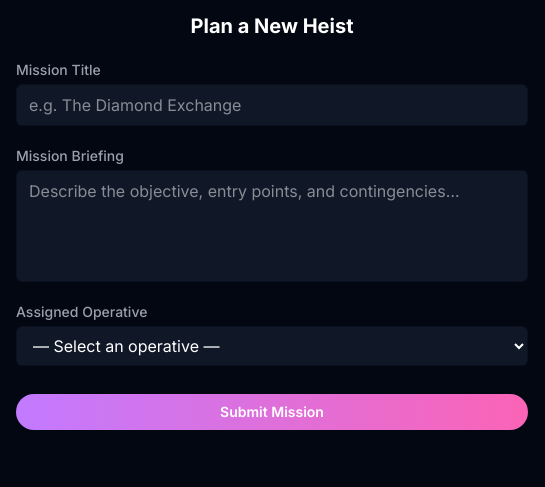
CreateHeistForm › shows an inline error and does not navigate when addDoc rejects
Type "The Diamond Exchange" into the field labelled "Mission Title" at x=272, y=105, box 16,84 -> 528,126
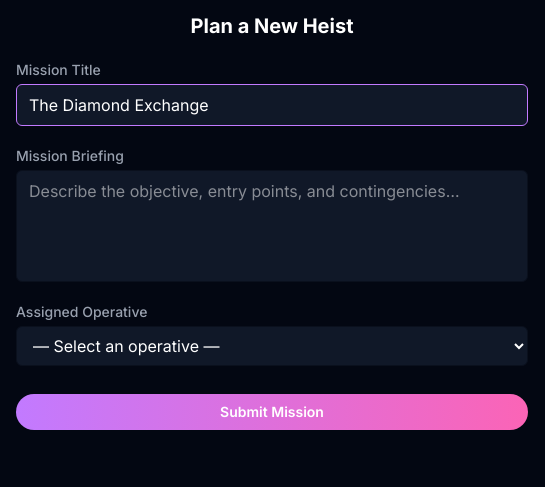
Type "Steal the gem from vault B." into the text box labelled "Mission Briefing" at x=272, y=226, box 16,170 -> 528,282
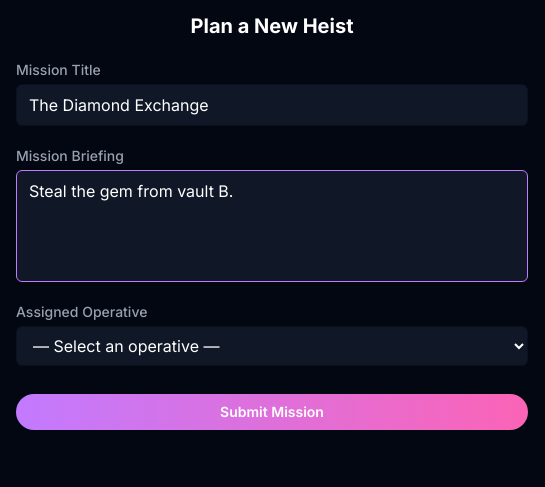
Select "SilentFox" in the dropdown labelled "Assigned Operative" at x=272, y=346, box 16,326 -> 528,366
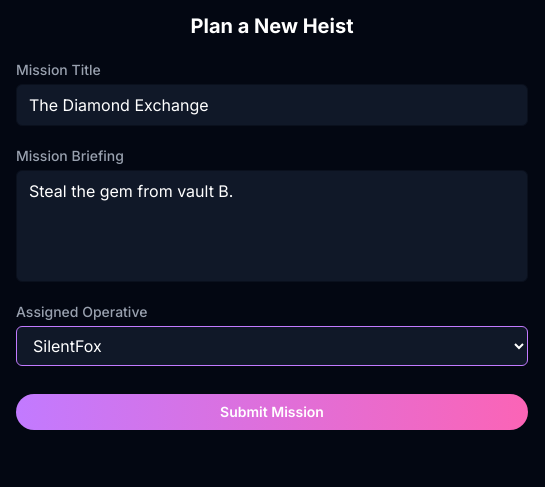
Click the button "Submit Mission" at x=272, y=412, box 16,394 -> 528,430
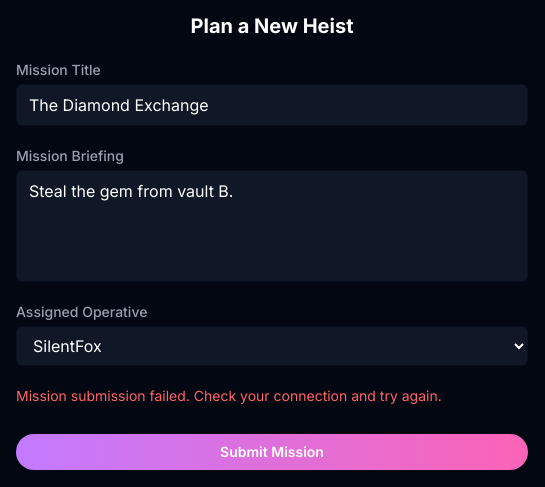
Now the message shows "failed", box 16,387 -> 442,404
